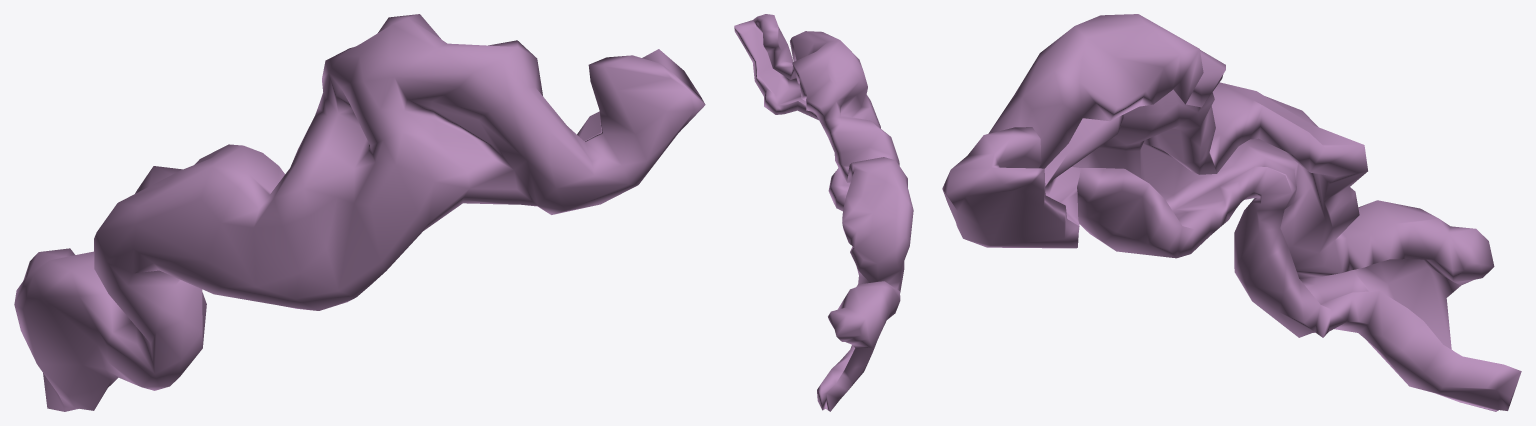
3 renders of one model, left to right at view 1: azimuth 30°, elevation 25°; view 2: azimuth 150°, elevation 25°; view 3: azimuth 270°, elevation 25°, orthographic. The views are drawn at different scales.
Visible parts, largest first — view 1: 右侧中央后回; view 2: 右侧中央后回; view 3: 右侧中央后回.
Part boxes in pixels (x1,y1,x2,y2): 右侧中央后回: (14,14,705,411); 右侧中央后回: (734,14,913,411); 右侧中央后回: (942,14,1521,411).
Size of the model in its own units: 0.0777 by 0.0759 by 0.0822.
